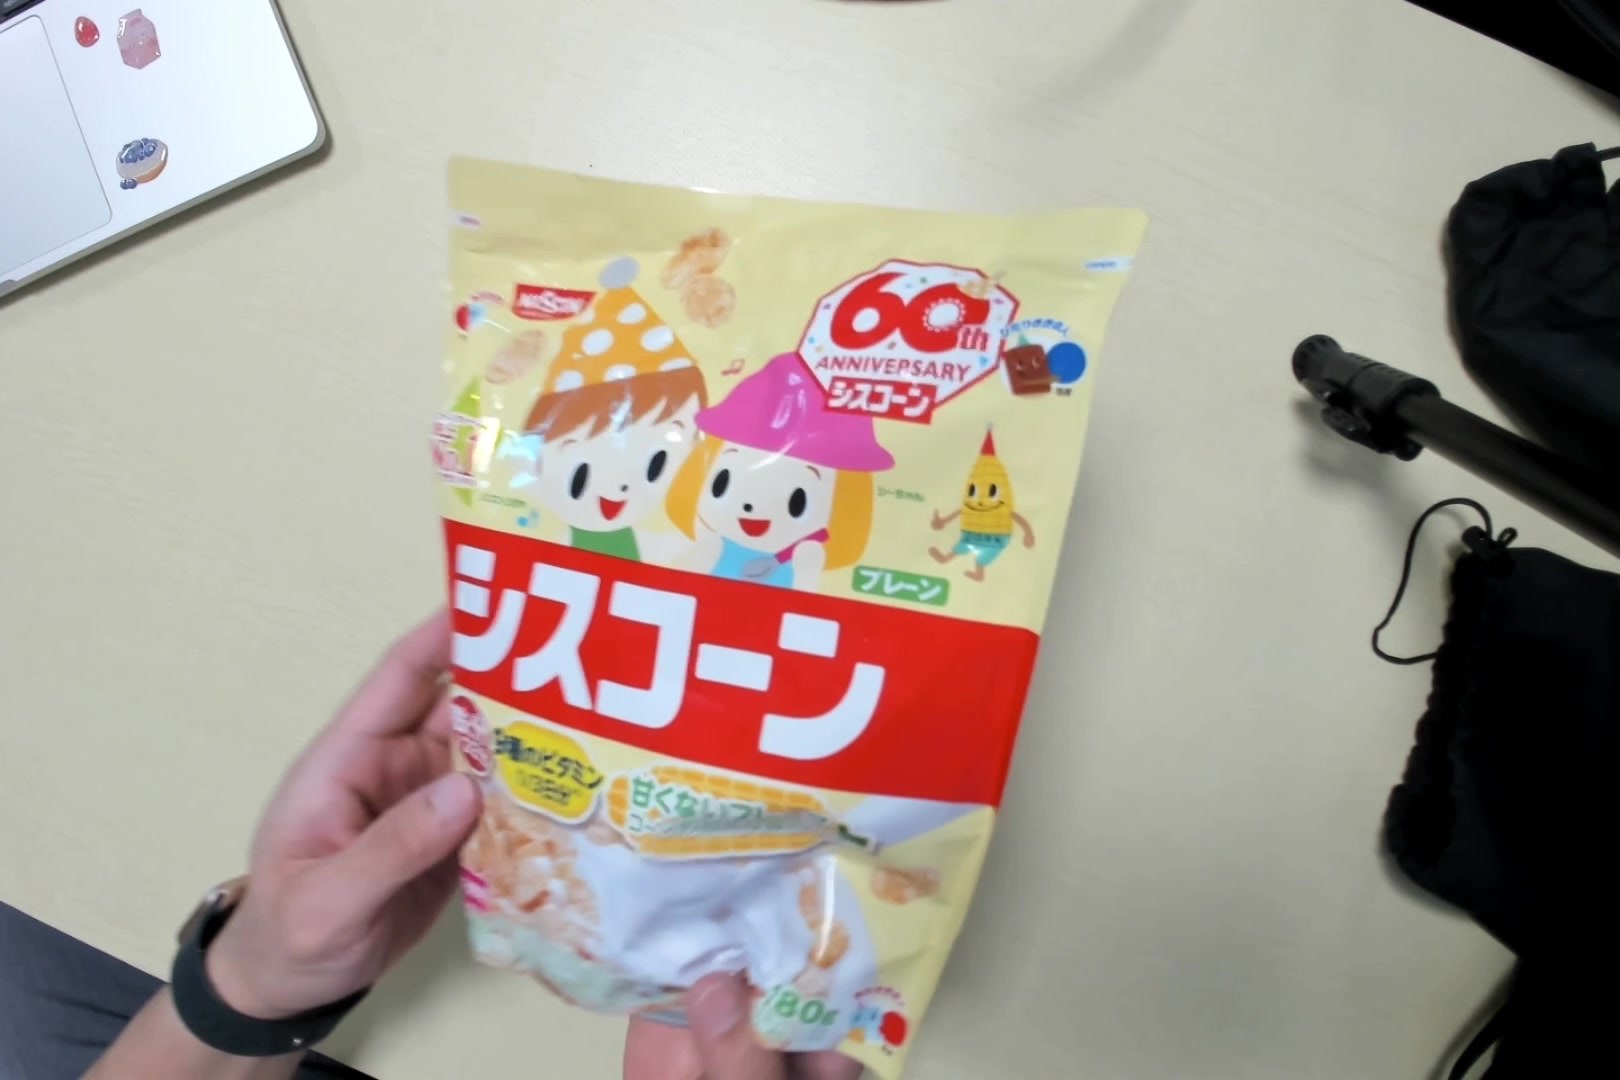BreakfastCereals_100-199g_NonHalal_NonHealthy: (445, 162, 1058, 1046)
